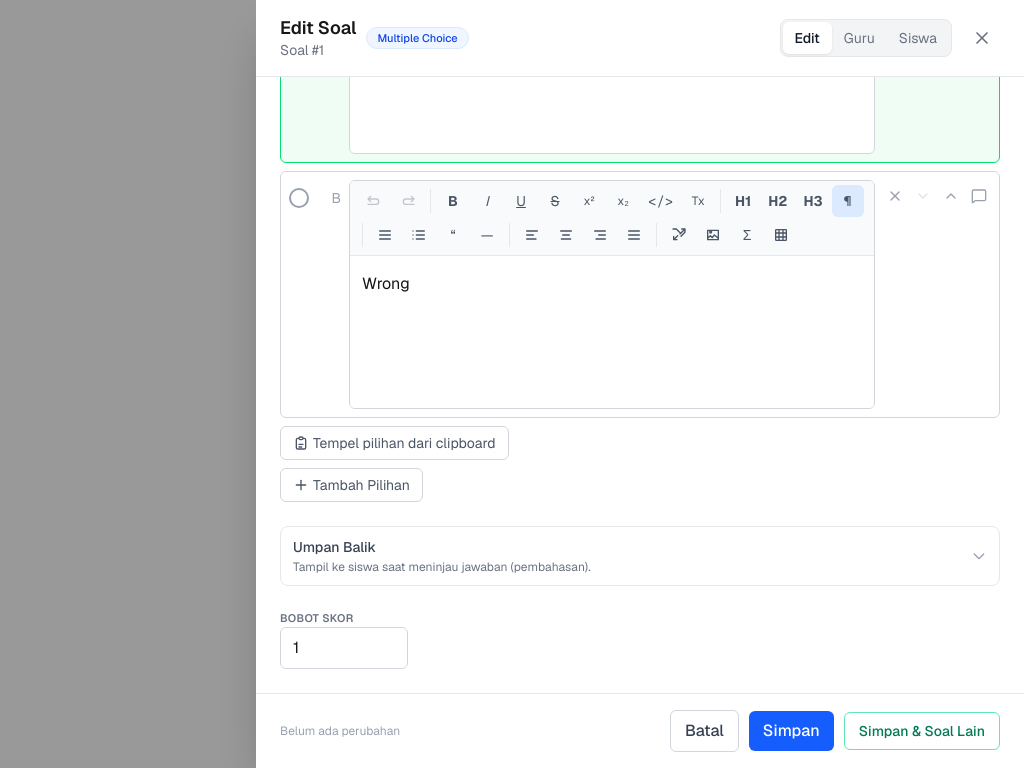
QuestionEditor autosave › surfaces a 409 conflict and lets the teacher keep their version
(page scrolled)
Replace the text in the number field labelled "Bobot Skor" with "4" at (344, 648), box [280, 626, 408, 668]
(page scrolled)
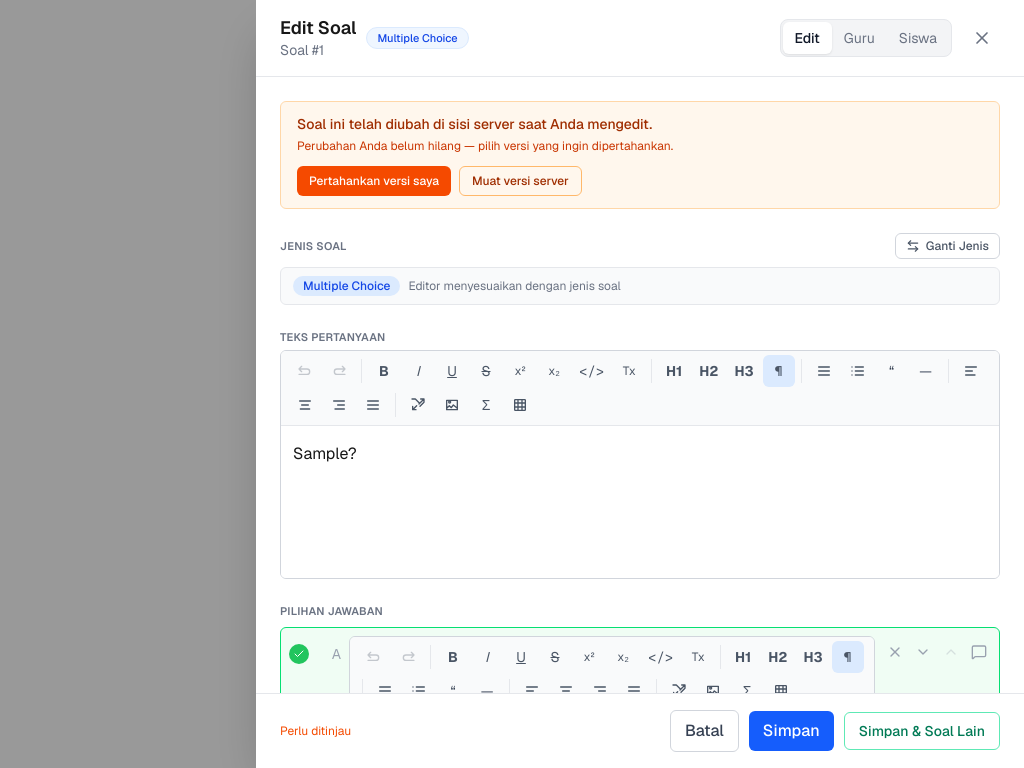
Result: the text "Soal ini telah diubah di sisi server saat Anda mengedit." is shown at [297, 115, 652, 133]
Click the button "Pertahankan versi saya".
click(374, 181)  # box [297, 166, 451, 196]
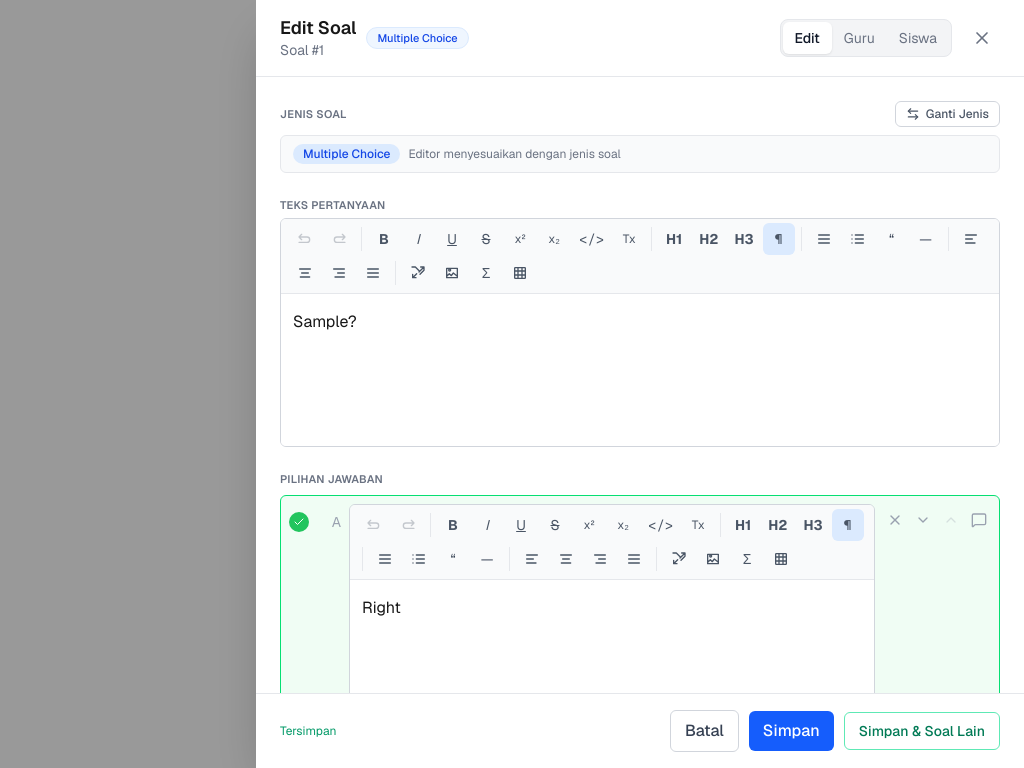
Result: the text "Tersimpan" is shown at [280, 723, 336, 739]
